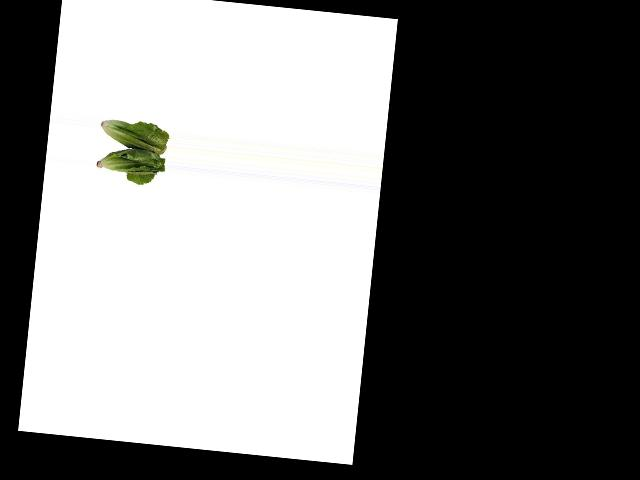lettuce: (94, 114, 170, 180)
